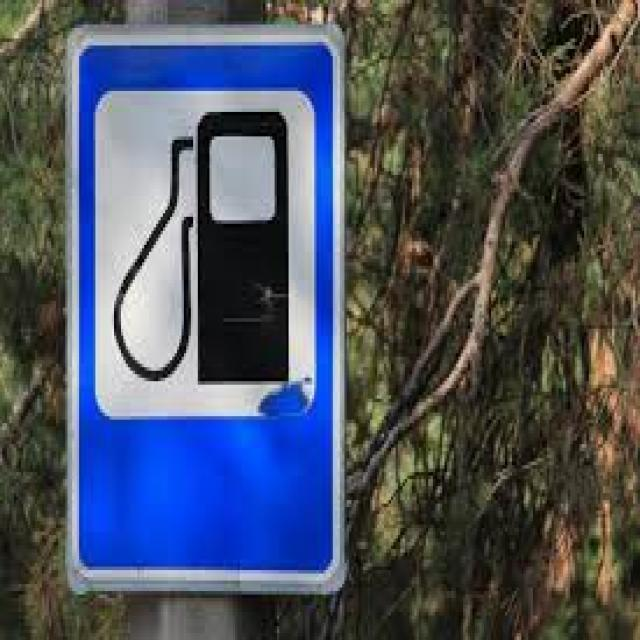petrol pump ahead: (85, 52, 329, 441)
